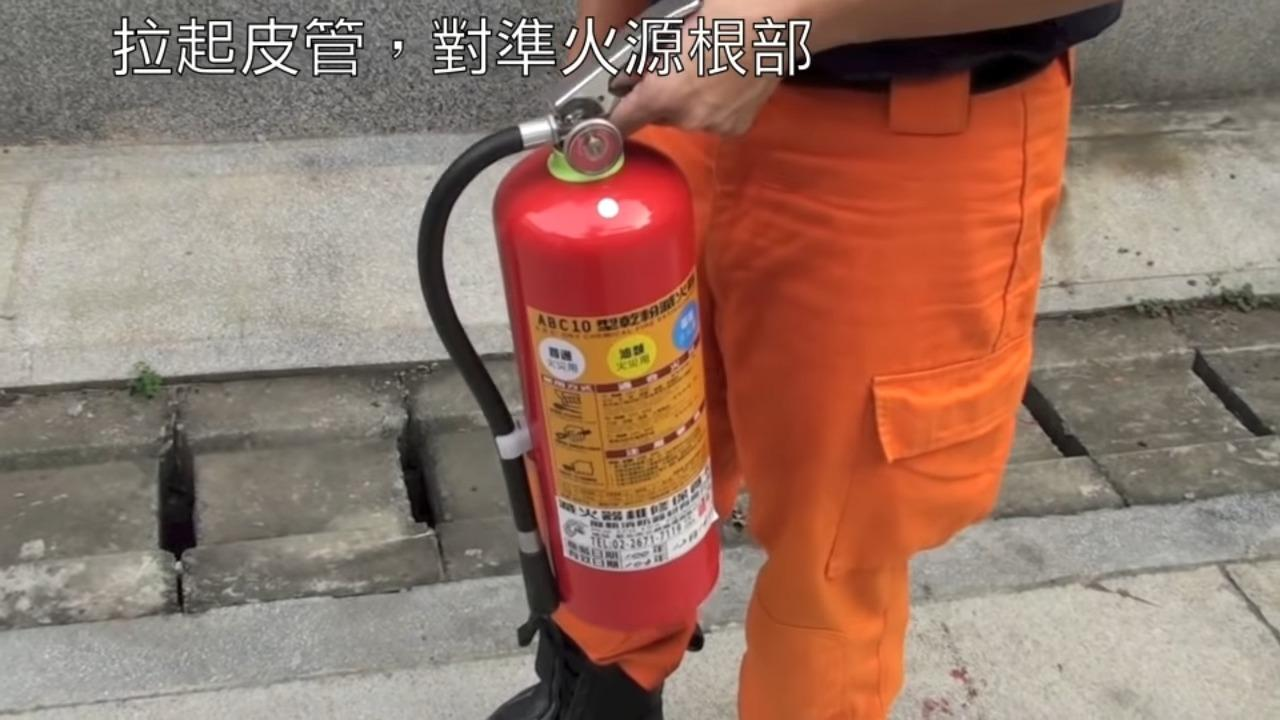FireExtinguisher: (473, 99, 728, 661)
not: (723, 42, 1125, 720)
